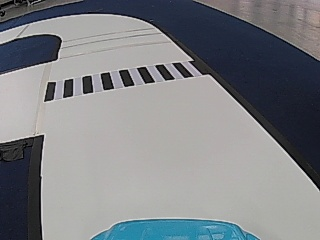CrossWalk: (45, 63, 188, 100)
